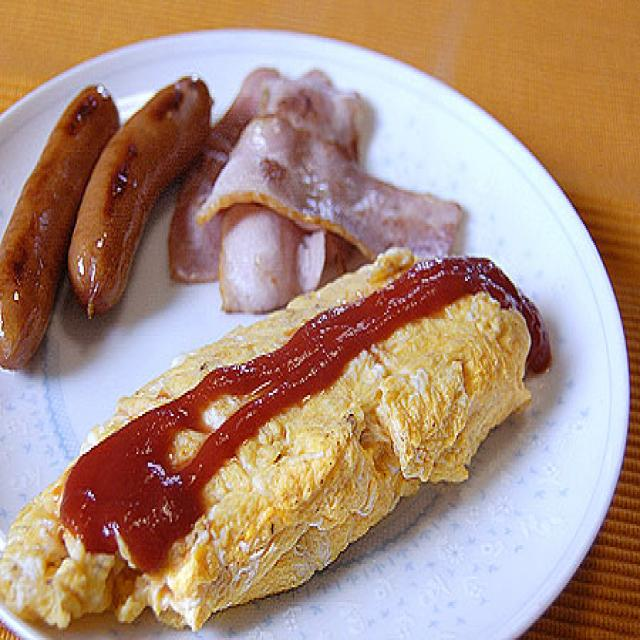鸡蛋料理: (0, 230, 577, 625)
